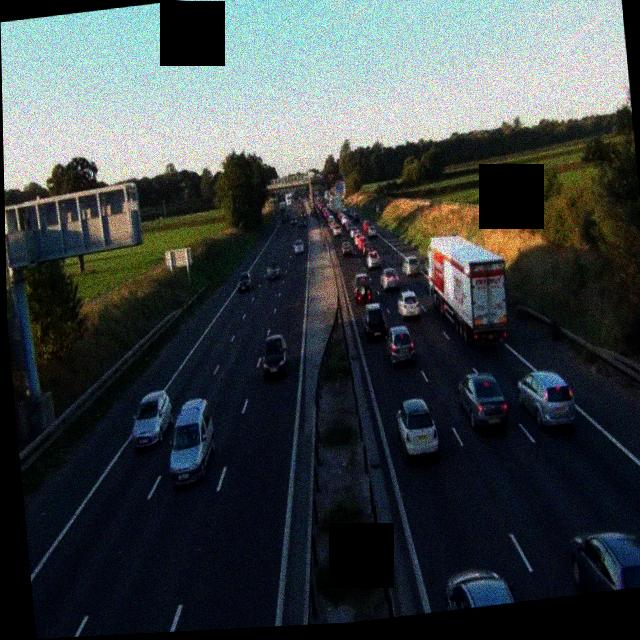car: (163, 395, 219, 487), (568, 525, 640, 595), (516, 366, 577, 431), (456, 368, 509, 432), (444, 564, 515, 610), (393, 396, 439, 462), (127, 389, 177, 449), (258, 333, 290, 381), (385, 323, 417, 367), (361, 300, 388, 340), (396, 288, 421, 319), (352, 274, 373, 304), (401, 254, 423, 279), (379, 266, 398, 290), (236, 270, 253, 292), (364, 248, 380, 270), (267, 261, 281, 281), (342, 238, 356, 256), (294, 236, 305, 254), (331, 224, 342, 238), (367, 223, 376, 238)
truck: (425, 227, 513, 349)
